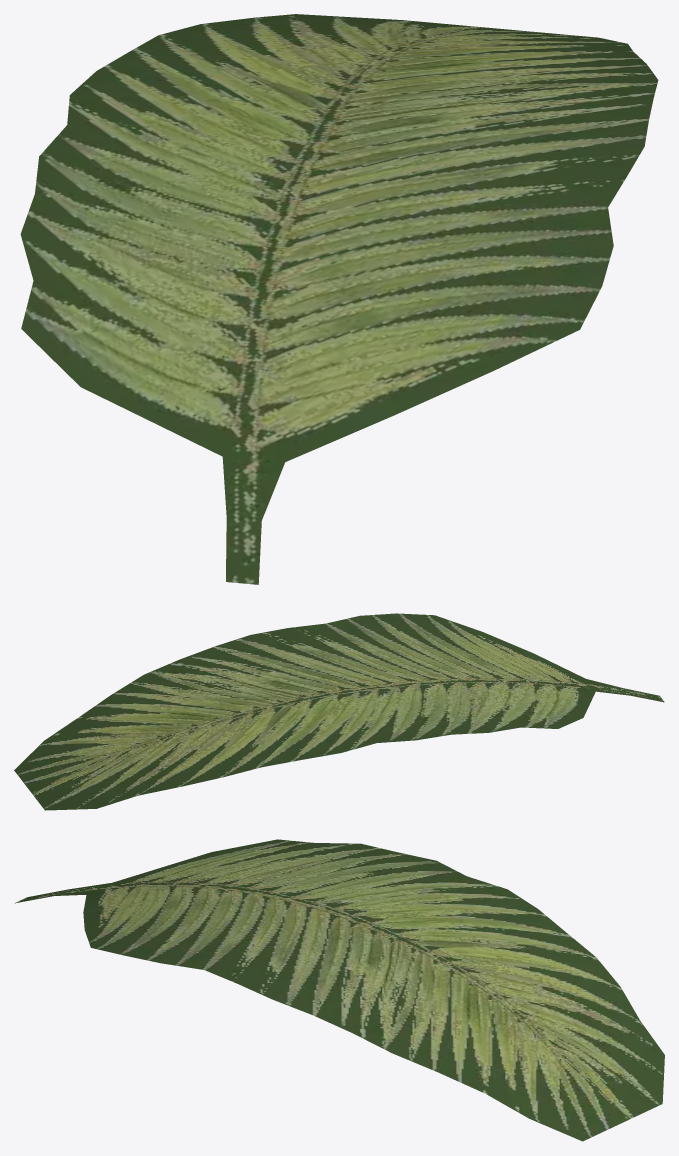
The model's file is turtle-mt-frond.glb.
The picture shows the model from 3 angles, top to bottom: view 1: azimuth 30°, elevation 25°; view 2: azimuth 150°, elevation 25°; view 3: azimuth 270°, elevation 25°; orthographic projection. The views are drawn at different scales.
Visible parts, largest first — view 1: frond; view 2: frond; view 3: frond.
Part boxes in pixels (bbox=[...]): frond: bbox=[20, 14, 658, 584]; frond: bbox=[14, 613, 664, 810]; frond: bbox=[15, 839, 664, 1141].
Size of the model in its own units: 0.0683 by 0.0107 by 0.0769.
1 material, 1 textured.
